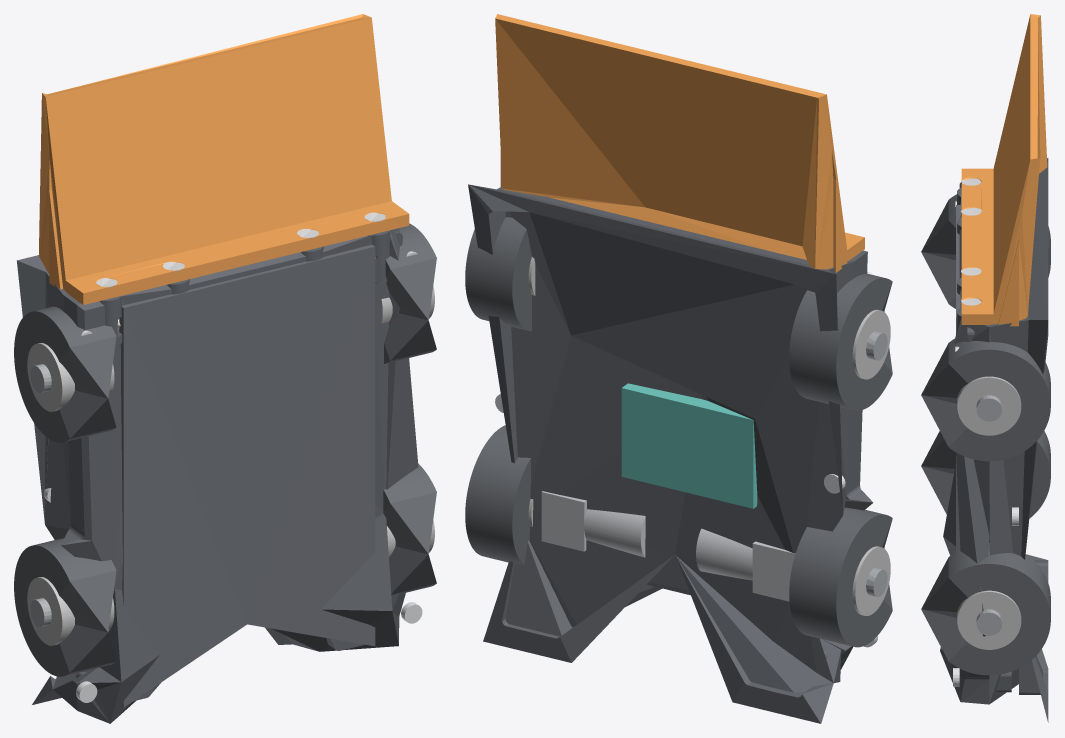
Rendered from rammstein.glb.
3 views of the same model, side by side, from view 1: azimuth 30°, elevation 25°; view 2: azimuth 150°, elevation 25°; view 3: azimuth 270°, elevation 25° (orthographic). The views are drawn at different scales.
Visible parts, largest first — view 1: carbon_plate, wedge, chassis_top, wheel_r, wheel_fr, chassis_bottom, wheel_fl, wheel_l, dt_hub_wheel_r, dt_hub_wheel_fr; view 2: chassis_bottom, wedge, battery, wheel_r, wheel_fr, wheel_l, wheel_fl, motor_l, motor_r, chassis_top, dt_hub_wheel_fr, dt_hub_wheel_r; view 3: wedge, chassis_bottom, wheel_l, wheel_fl, chassis_top, wheel_r, dt_hub_wheel_fl, dt_hub_wheel_l, wheel_fr, carbon_plate, dt_nut_wheel_fl, dt_nut_wheel_l.
Part boxes in pixels (box(x1,y1,x2,y2)): carbon_plate: box(119, 245, 375, 707); wedge: box(38, 14, 409, 304); chassis_top: box(60, 228, 418, 723); wheel_r: box(14, 538, 116, 676); wheel_fr: box(14, 306, 116, 442); chassis_bottom: box(16, 255, 318, 710); wheel_fl: box(384, 223, 436, 363); wheel_l: box(383, 464, 436, 595); dt_hub_wheel_r: box(27, 577, 114, 645); dt_hub_wheel_fr: box(27, 343, 114, 411); chassis_bottom: box(468, 184, 854, 723); wedge: box(495, 14, 864, 272); battery: box(621, 383, 757, 508); wheel_r: box(789, 507, 892, 647); wheel_fr: box(789, 273, 892, 410); wheel_l: box(465, 425, 530, 564); wheel_fl: box(465, 217, 531, 331); motor_l: box(541, 491, 645, 557); motor_r: box(696, 528, 795, 601); chassis_top: box(625, 250, 873, 673); dt_hub_wheel_fr: box(852, 309, 890, 379); dt_hub_wheel_r: box(852, 546, 890, 615); wedge: box(961, 14, 1047, 326); chassis_bottom: box(989, 158, 1048, 722); wheel_l: box(921, 543, 1050, 675); wheel_fl: box(921, 338, 1050, 461); chassis_top: box(940, 182, 989, 704); wheel_r: box(921, 431, 1050, 518); dt_hub_wheel_fl: box(957, 376, 1021, 435); dt_hub_wheel_l: box(957, 590, 1021, 649); wheel_fr: box(921, 194, 1050, 308); carbon_plate: box(956, 205, 960, 551); dt_nut_wheel_fl: box(976, 395, 1001, 421); dt_nut_wheel_l: box(976, 609, 1001, 635).
Bounding box in the file's own units: 83.2 × 126 × 26.37.
